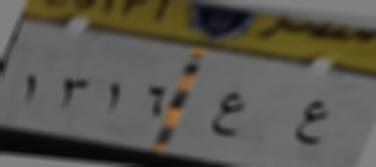1: (100, 77, 123, 119), (21, 68, 42, 106)
3: (58, 72, 91, 113)
6: (142, 80, 167, 118)
ain: (291, 91, 328, 156), (209, 87, 249, 144)
